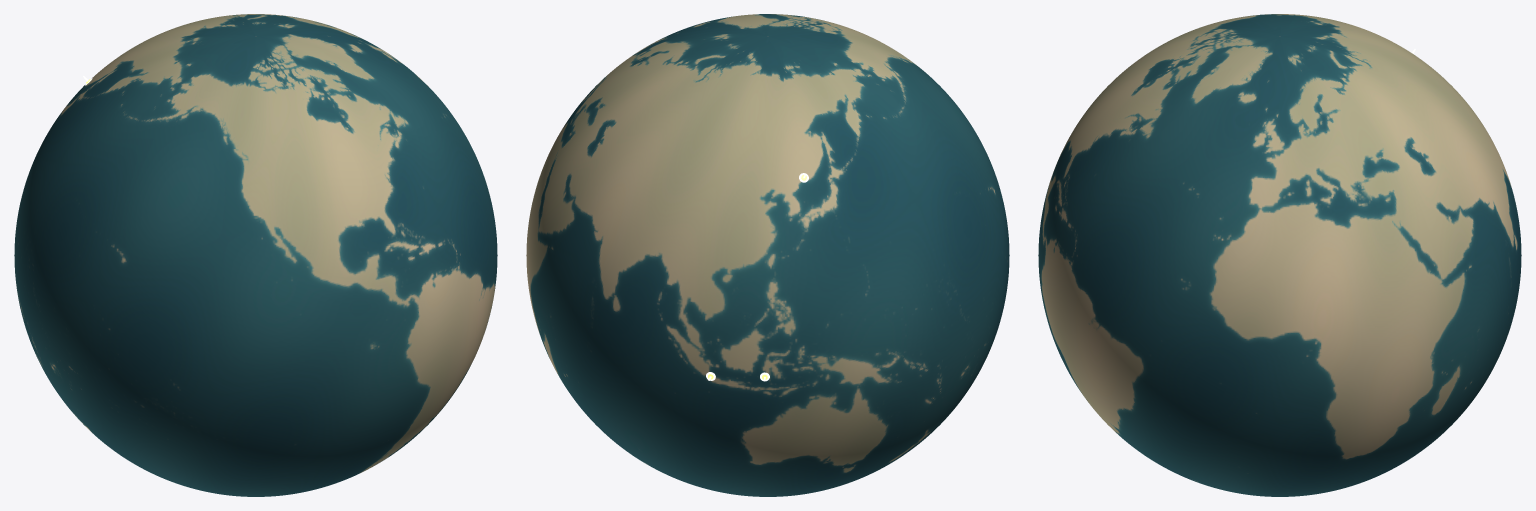
The model's file is globe.glb.
The picture shows the model from 3 angles, left to right: view 1: azimuth 30°, elevation 25°; view 2: azimuth 150°, elevation 25°; view 3: azimuth 270°, elevation 25°; orthographic projection.
Parts seen in each view (by area): view 1: Earth_Surface; view 2: Earth_Surface; view 3: Earth_Surface.
Part boxes in pixels (<box>): Earth_Surface: <box>14,14,497,496</box>; Earth_Surface: <box>526,14,1009,496</box>; Earth_Surface: <box>1038,14,1521,496</box>.
Size of the model in its own units: 20 by 20 by 20.
3 materials, 1 textured.
